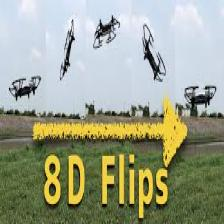drone: (141, 23, 166, 93), (60, 16, 76, 85), (94, 13, 121, 52), (8, 75, 40, 101), (184, 83, 217, 108)
